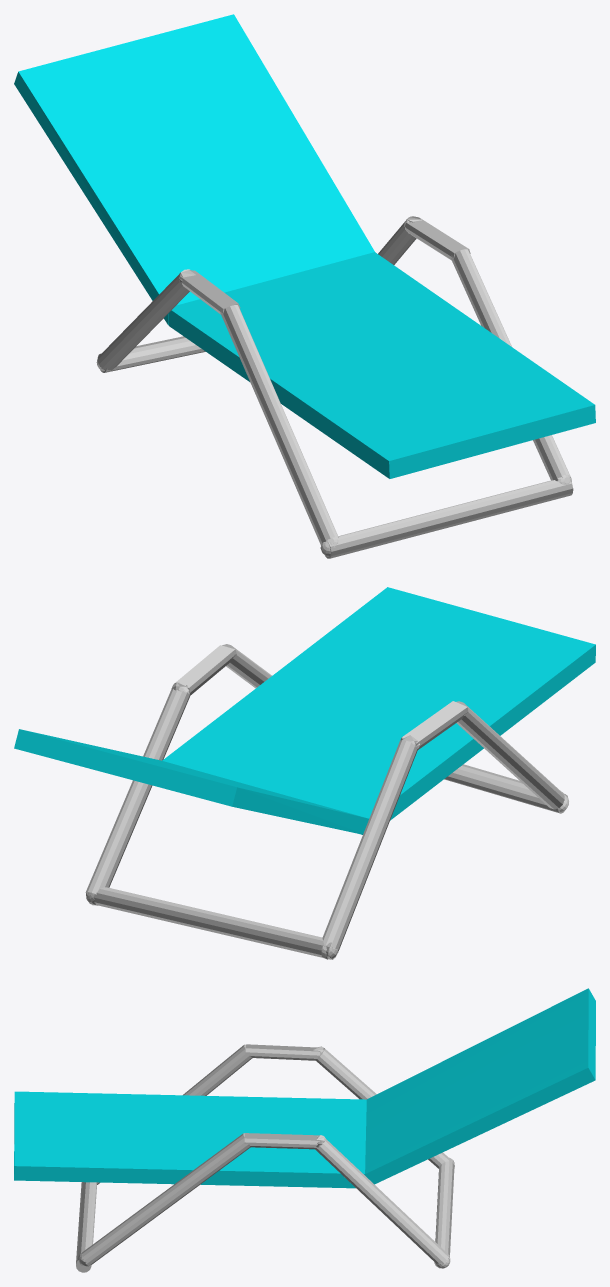
Rendered from lounge_chair.gltf.
3 renders of one model, top to bottom at view 1: azimuth 30°, elevation 25°; view 2: azimuth 150°, elevation 25°; view 3: azimuth 270°, elevation 25°, orthographic. The views are drawn at different scales.
Parts seen in each view (by area): view 1: mesh1077511786, mesh876641566, mesh1846827902, mesh853096989, mesh833733614, mesh246137678, mesh606963836, mesh1200778842, mesh1499209735, mesh1715630603; view 2: mesh876641566, mesh1077511786, mesh606963836, mesh246137678, mesh1715630603, mesh1846827902, mesh853096989, mesh1499209735, mesh1200778842, mesh833733614; view 3: mesh876641566, mesh1077511786, mesh833733614, mesh1715630603, mesh606963836, mesh853096989, mesh246137678, mesh1846827902, mesh1200778842, mesh1499209735.
Part boxes in pixels (left/top/right/bottom): mesh1077511786: left=14, top=14, right=374, bottom=324; mesh876641566: left=168, top=252, right=595, bottom=478; mesh1846827902: left=220, top=305, right=338, bottom=544; mesh853096989: left=325, top=480, right=573, bottom=558; mesh833733614: left=450, top=249, right=570, bottom=480; mesh246137678: left=98, top=269, right=189, bottom=370; mesh606963836: left=97, top=336, right=205, bottom=372; mesh1200778842: left=405, top=219, right=470, bottom=260; mesh1499209735: left=179, top=270, right=240, bottom=314; mesh1715630603: left=378, top=221, right=416, bottom=264; mesh876641566: left=162, top=587, right=595, bottom=834; mesh1077511786: left=14, top=729, right=368, bottom=834; mesh606963836: left=87, top=887, right=335, bottom=959; mesh246137678: left=322, top=740, right=417, bottom=950; mesh1715630603: left=85, top=688, right=189, bottom=894; mesh1846827902: left=456, top=701, right=564, bottom=809; mesh853096989: left=444, top=764, right=567, bottom=813; mesh1499209735: left=400, top=701, right=468, bottom=749; mesh1200778842: left=176, top=645, right=236, bottom=695; mesh833733614: left=222, top=644, right=271, bottom=688; mesh876641566: left=14, top=1091, right=366, bottom=1188; mesh1077511786: left=365, top=988, right=595, bottom=1184; mesh833733614: left=80, top=1133, right=250, bottom=1265; mesh1715630603: left=315, top=1139, right=449, bottom=1265; mesh606963836: left=434, top=1157, right=454, bottom=1268; mesh853096989: left=76, top=1182, right=96, bottom=1272; mesh246137678: left=316, top=1047, right=452, bottom=1168; mesh1846827902: left=96, top=1044, right=252, bottom=1184; mesh1200778842: left=244, top=1133, right=319, bottom=1149; mesh1499209735: left=245, top=1044, right=320, bottom=1060.
Bounding box in the file's own units: 0.7934 × 0.7797 × 2.
